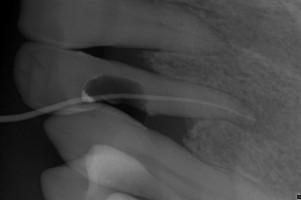Furcation Involvement: (229, 93, 282, 137)
